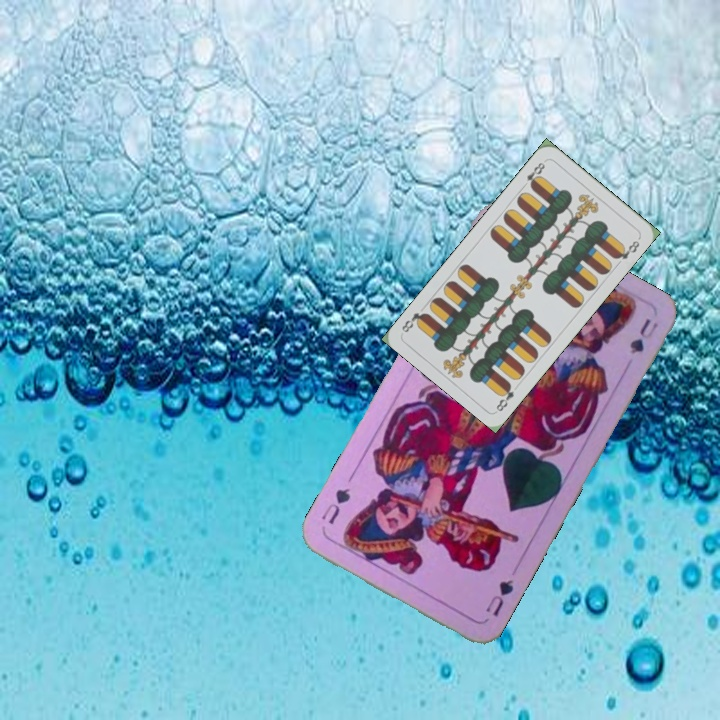E8: (492, 379, 522, 414), (518, 158, 548, 191)
GU: (481, 571, 517, 619)
